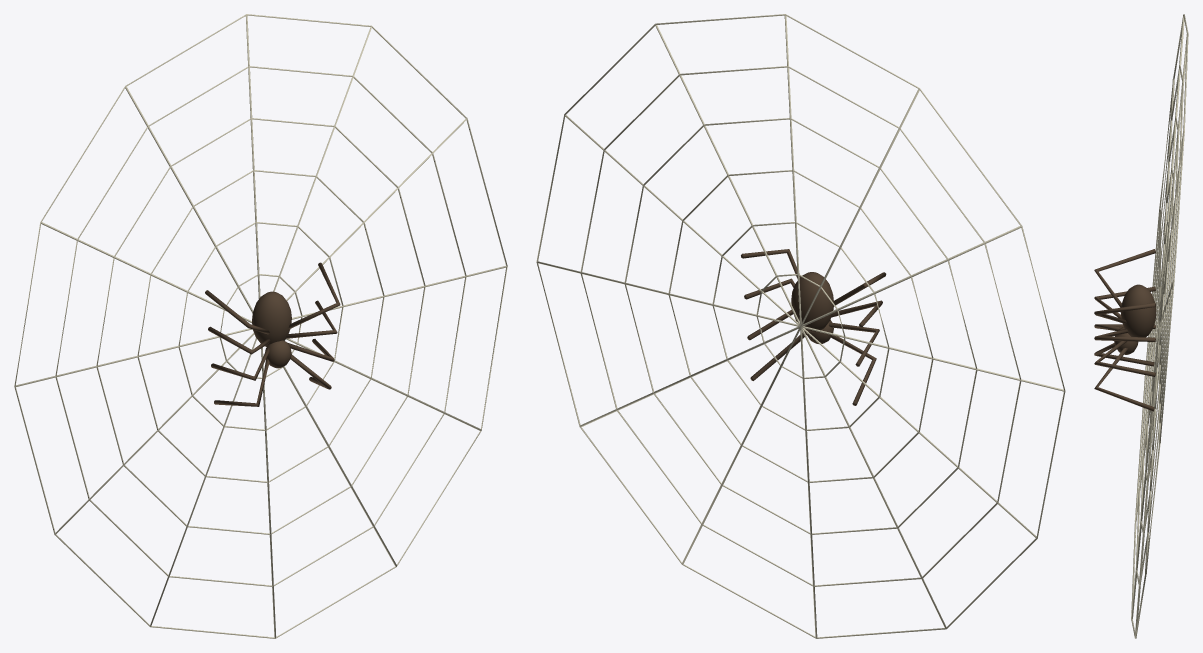
Rendered from corner-spider.glb.
3 views of the same model, side by side, from view 1: azimuth 30°, elevation 25°; view 2: azimuth 150°, elevation 25°; view 3: azimuth 270°, elevation 25° (orthographic). The views are drawn at different scales.
Parts seen in each view (by area): view 1: Web capture spiral.017, Web capture spiral.016, Web capture spiral.015, Web capture spiral.014, Spider abdomen.002, Radial web silk.027, Radial web silk.028, Radial web silk.026, Web capture spiral.013, Radial web silk.025, Radial web silk.029, Radial web silk.024; view 2: Web capture spiral.017, Web capture spiral.016, Web capture spiral.015, Web capture spiral.014, Spider abdomen.002, Radial web silk.026, Radial web silk.027, Radial web silk.025, Radial web silk.024, Radial web silk.028, Radial web silk.029, Web capture spiral.013; view 3: Web capture spiral.017, Web capture spiral.016, Web capture spiral.015, Spider abdomen.002, Radial web silk.028, Radial web silk.027, Web capture spiral.014, Radial web silk.029, Radial web silk.026, Web capture spiral.013, Articulated spider leg.020, Articulated spider leg.019 (+9 smaller).
Boxes of the visible parts, x1,y1,x2,y2 form: Web capture spiral.017: (14,14,507,638); Web capture spiral.016: (55,66,466,586); Web capture spiral.015: (96,118,425,534); Web capture spiral.014: (137,170,384,482); Spider abdomen.002: (252,291,291,346); Radial web silk.027: (245,15,276,638); Radial web silk.028: (125,86,396,566); Radial web silk.026: (150,27,371,626); Web capture spiral.013: (178,222,343,430); Radial web silk.025: (55,118,466,534); Radial web silk.029: (41,222,481,430); Radial web silk.024: (15,266,507,386); Web capture spiral.017: (536,14,1065,638); Web capture spiral.016: (580,66,1021,586); Web capture spiral.015: (624,118,977,534); Web capture spiral.014: (668,170,933,482); Spider abdomen.002: (791,272,833,332); Radial web silk.026: (655,24,946,628); Radial web silk.027: (784,15,817,638); Radial web silk.025: (564,115,1036,538); Radial web silk.024: (537,261,1063,391); Radial web silk.028: (682,89,919,564); Radial web silk.029: (580,226,1021,427); Web capture spiral.013: (712,222,889,430); Web capture spiral.017: (1131,14,1188,638); Web capture spiral.016: (1136,66,1183,586); Web capture spiral.015: (1140,118,1179,534); Spider abdomen.002: (1120,284,1156,337); Radial web silk.028: (1134,15,1184,637); Radial web silk.027: (1131,34,1188,618); Web capture spiral.014: (1145,170,1174,482); Radial web silk.029: (1145,79,1174,573); Radial web silk.026: (1134,131,1184,521); Web capture spiral.013: (1150,222,1169,430); Articulated spider leg.020: (1094,348,1154,411); Articulated spider leg.019: (1094,249,1155,307).
Size of the model in its own units: 0.4954 by 0.5794 by 0.0847.
